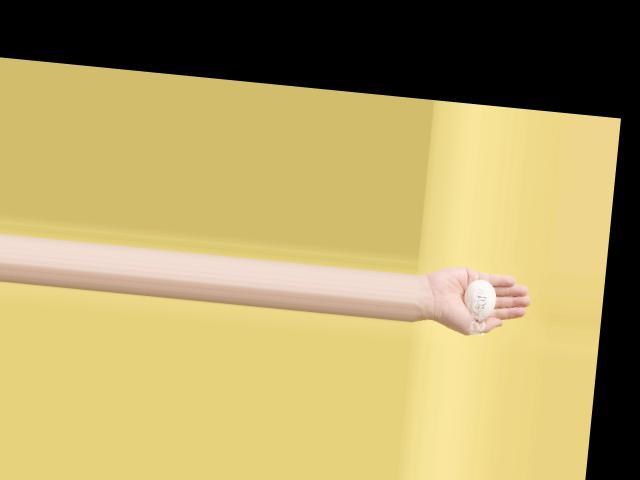egg: (462, 277, 497, 321)
